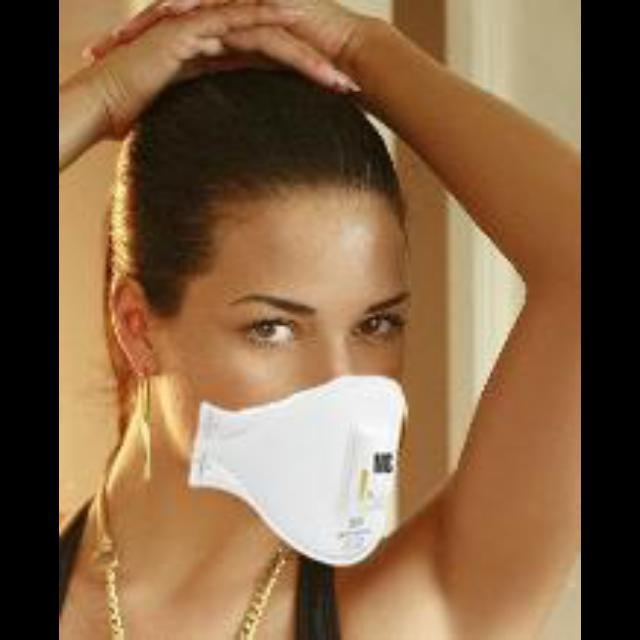suspicion: (149, 91, 427, 557)
